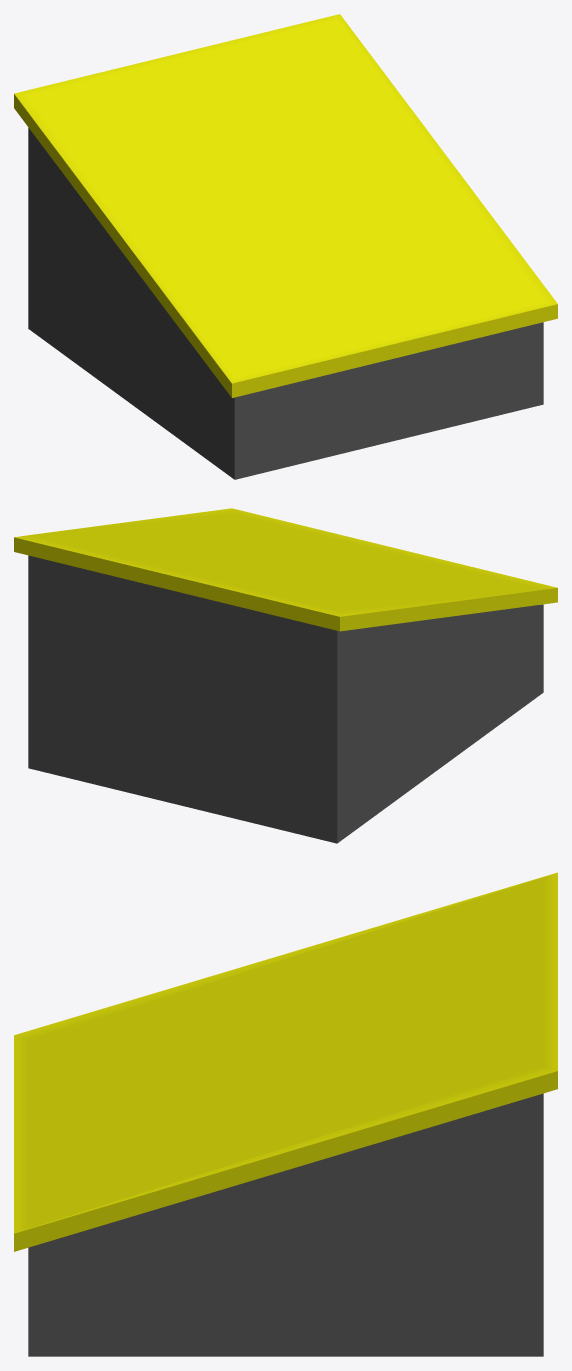
File: building1.fbx
3 renders of one model, top to bottom at view 1: azimuth 30°, elevation 25°; view 2: azimuth 150°, elevation 25°; view 3: azimuth 270°, elevation 25°, orthographic. The views are drawn at different scales.
Parts seen in each view (by area): view 1: building1; view 2: building1; view 3: building1.
Part boxes in pixels (x1,y1,x2,y2): building1: (14,14,557,479); building1: (14,508,557,843); building1: (14,872,557,1356).
Size of the model in its own units: 12.95 by 8.84 by 14.99.
